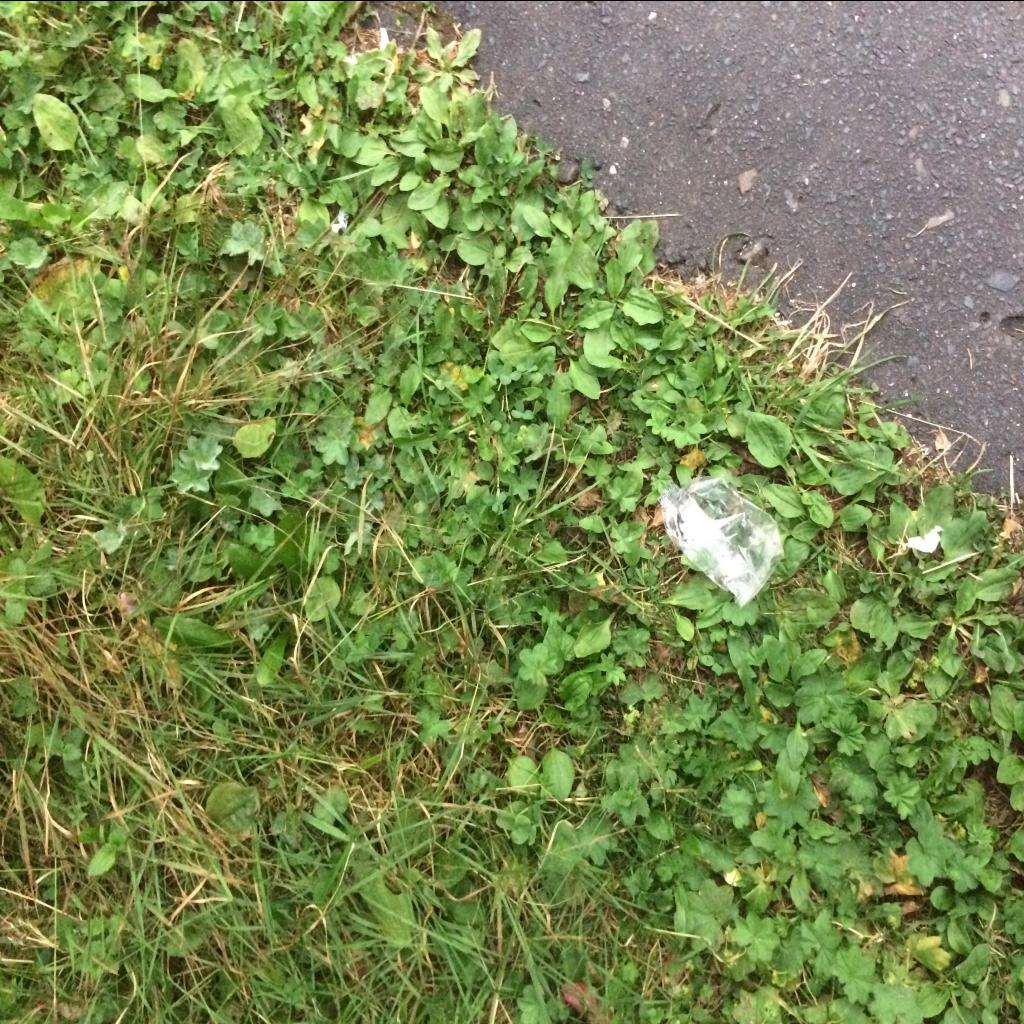Plastic film: (656, 476, 784, 608)
